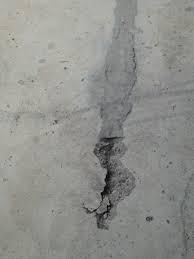spalling: (84, 137, 136, 229)
